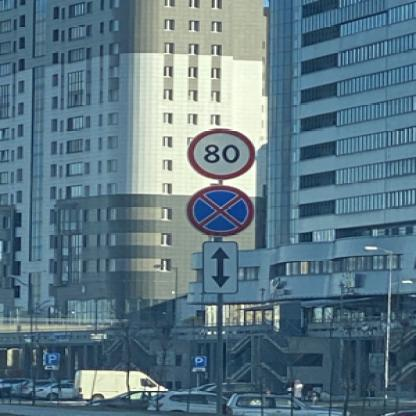Speed Limit 80: (187, 126, 255, 178)
